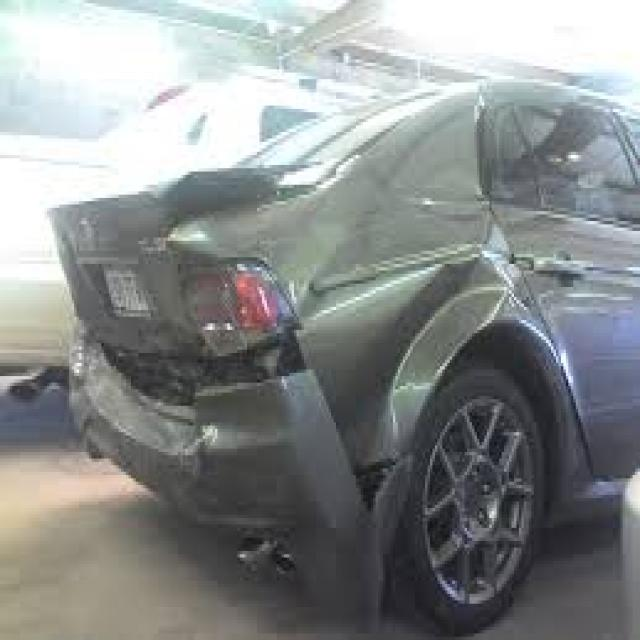moderate: (82, 133, 406, 557), (439, 229, 496, 352)
